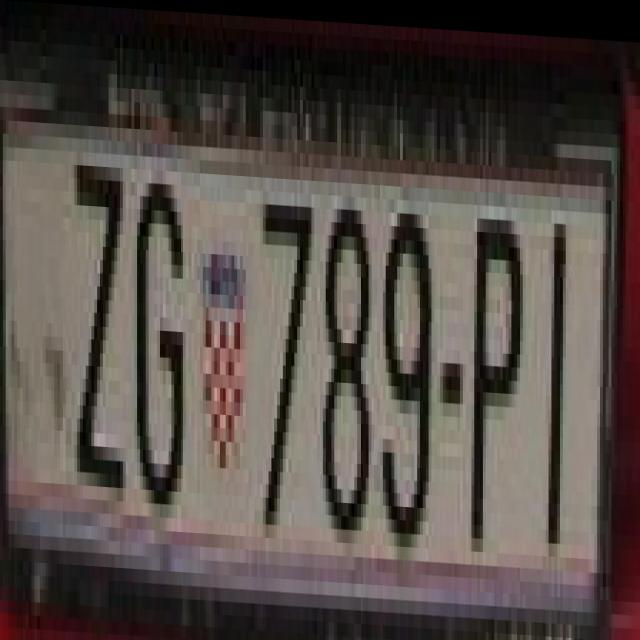7: (254, 160, 306, 550)
8: (317, 177, 374, 540)
9: (379, 193, 432, 530)
G: (128, 153, 188, 503)
P: (468, 171, 528, 561)
Z: (71, 124, 123, 486)
